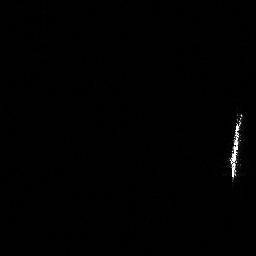ship: (225, 110, 246, 182)
